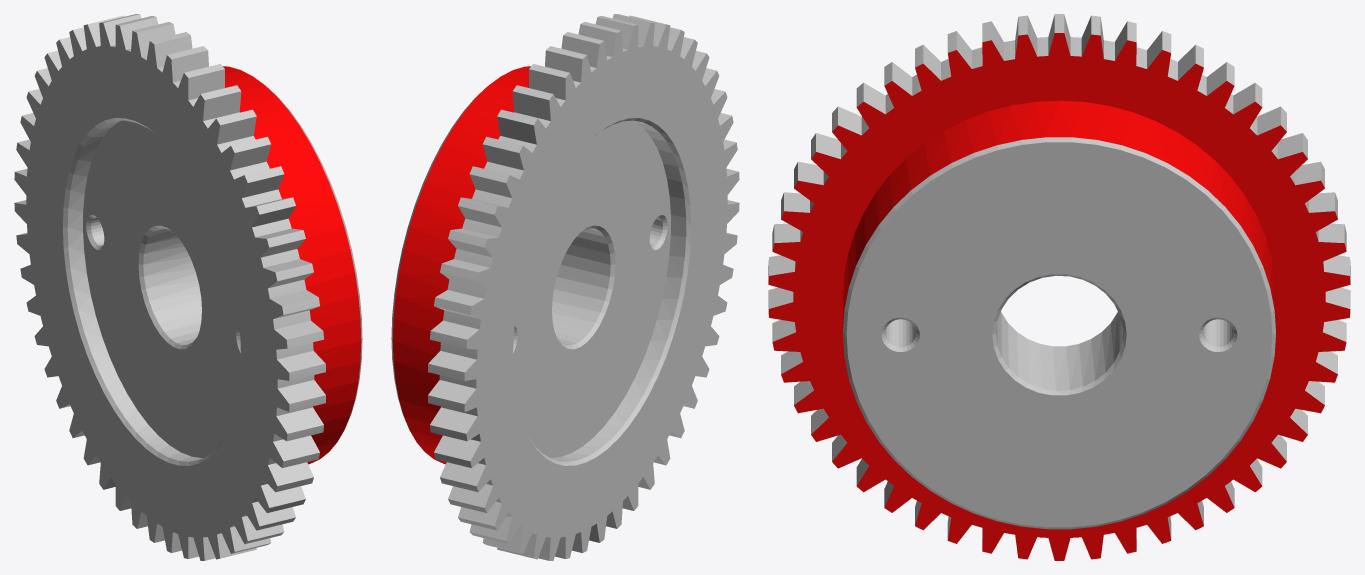
File: 963504_RW44_IT08_stp_54_205.obj
The picture shows the model from 3 angles, left to right: view 1: azimuth 30°, elevation 25°; view 2: azimuth 150°, elevation 25°; view 3: azimuth 270°, elevation 25°; orthographic projection. The views are drawn at different scales.
Parts seen in each view (by area): view 1: Object1; view 2: Object1; view 3: Object1.
Boxes of the visible parts, bbox=[...] form: Object1: bbox=[14, 14, 362, 560]; Object1: bbox=[391, 14, 739, 560]; Object1: bbox=[768, 14, 1350, 560].
Bounding box in the file's own units: 18 × 78 × 77.92.
